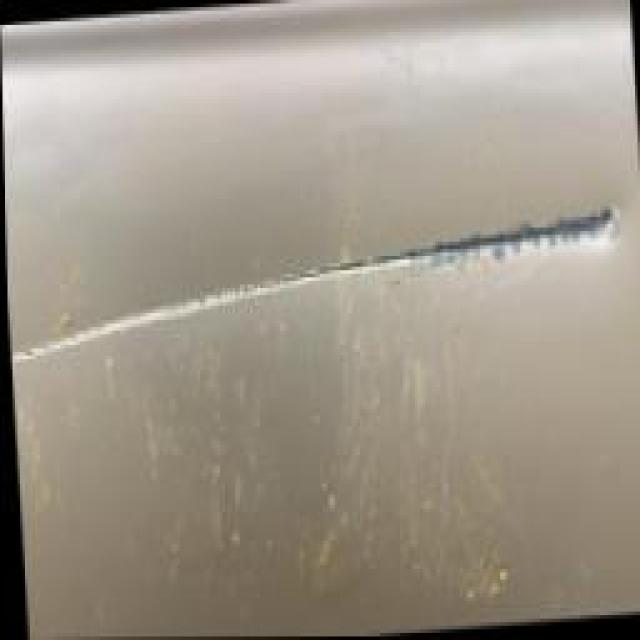Door: (5, 185, 640, 530)
